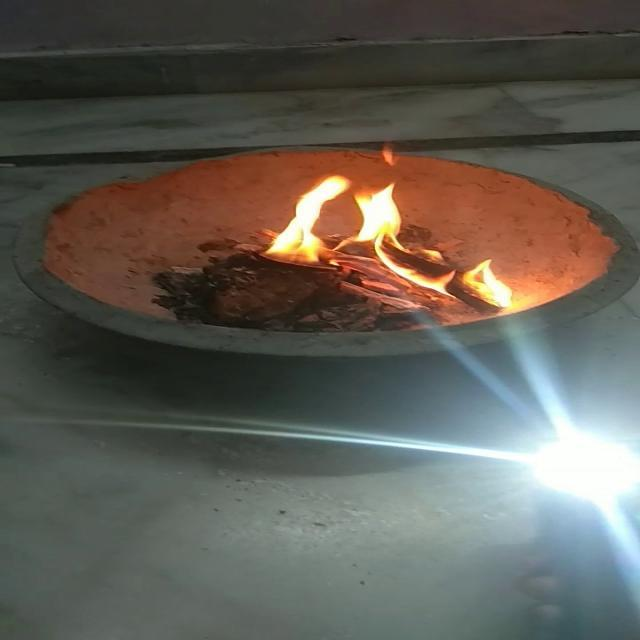Fire: (261, 176, 530, 317)
